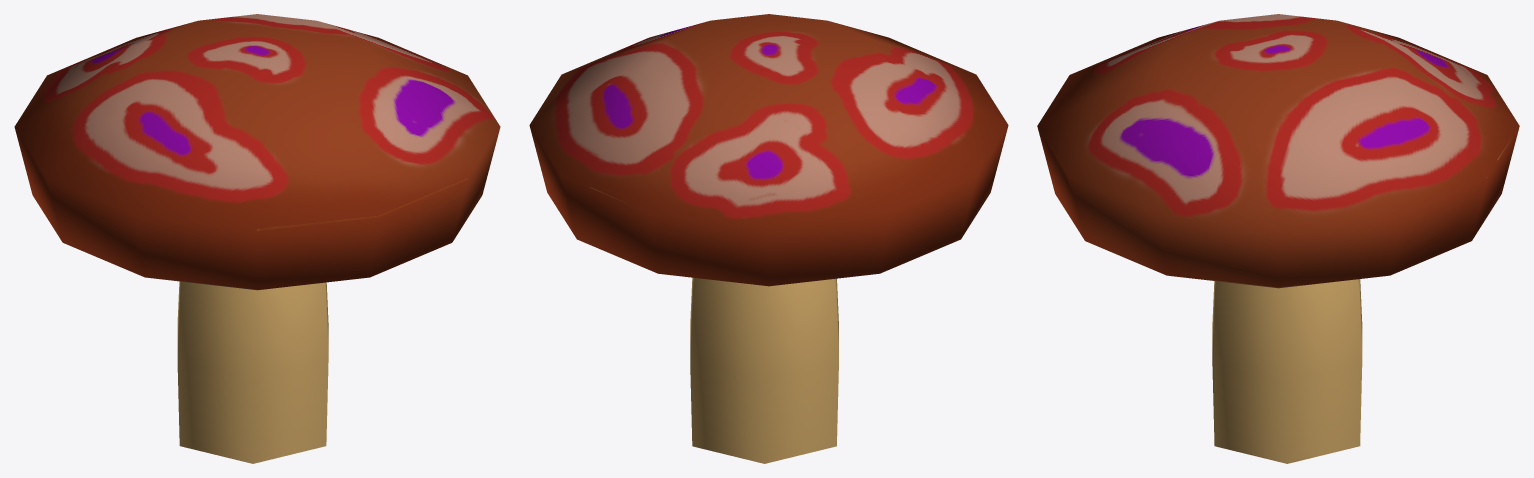
The model's file is mushroom_5.fbx.
3 views of the same model, side by side, from view 1: azimuth 30°, elevation 25°; view 2: azimuth 150°, elevation 25°; view 3: azimuth 270°, elevation 25° (orthographic).
Parts seen in each view (by area): view 1: Sphere003; view 2: Sphere003; view 3: Sphere003.
Part boxes in pixels (<box>): Sphere003: <box>14,14,500,463</box>; Sphere003: <box>529,14,1008,463</box>; Sphere003: <box>1037,14,1519,463</box>.
Size of the model in its own units: 8.49 by 8.49 by 7.37.
